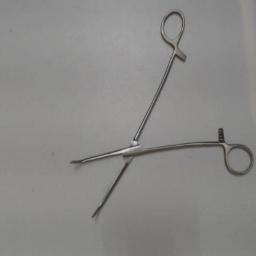Lahey Forceps: (66, 6, 256, 224)
